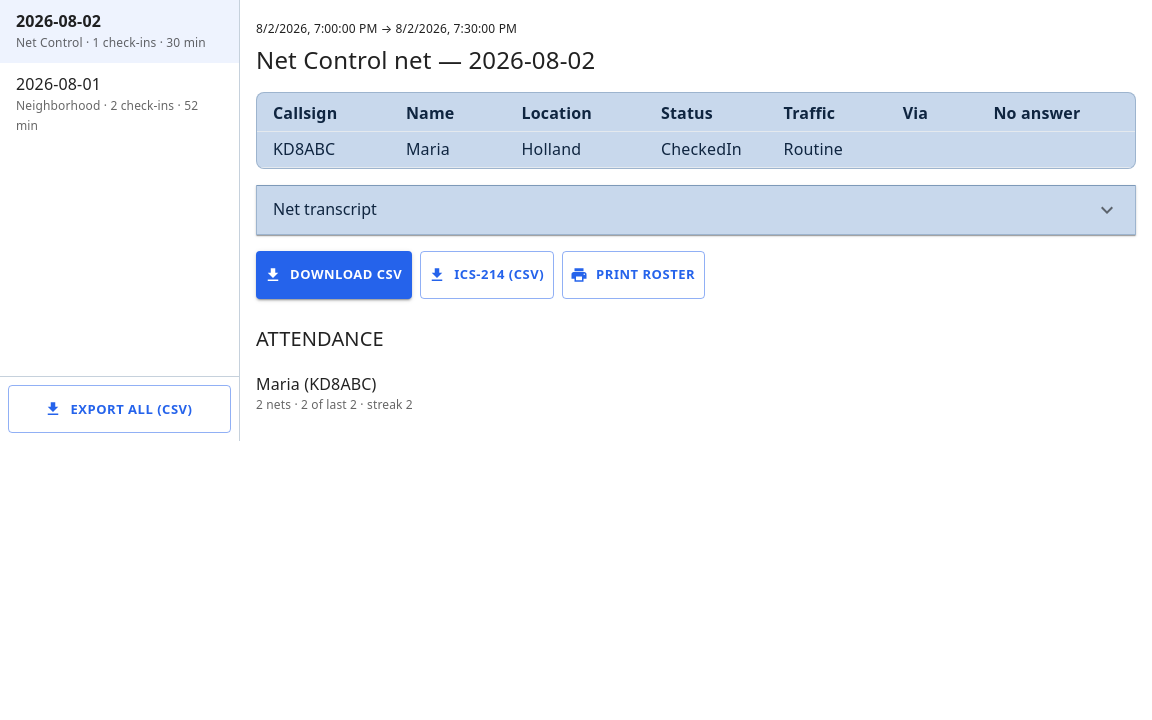
Test: PastNetsTab › opens the ICS-214 dialog with defaults when the saved header is corrupt
This screenshot has width=1152, height=720.
Click the button "ICS-214 (CSV)" at (487, 274), box [420, 250, 554, 298]
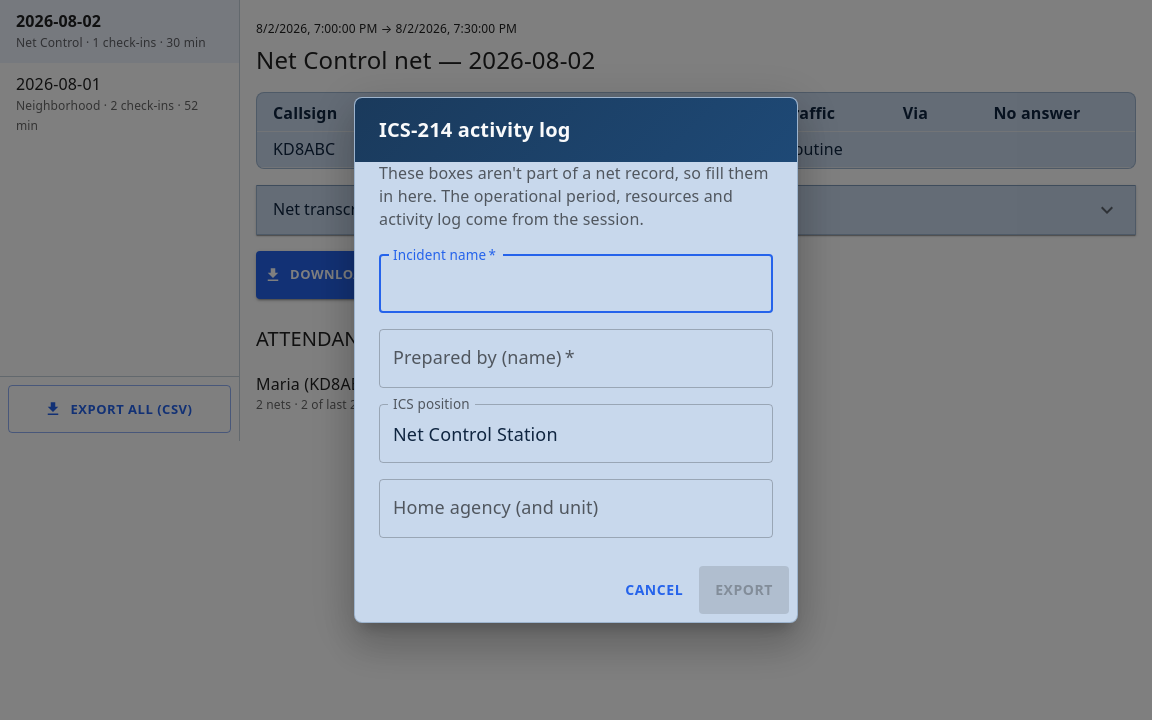
Result: the field labelled "Incident name *" is empty at [379, 255, 773, 314]
Result: the field labelled "ICS position" holds "Net Control Station" at [379, 404, 773, 463]
